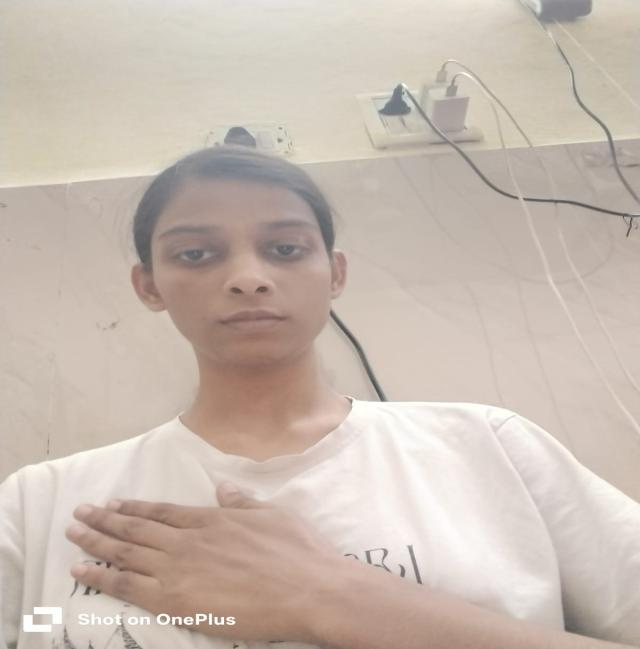Please: (56, 469, 359, 635)
